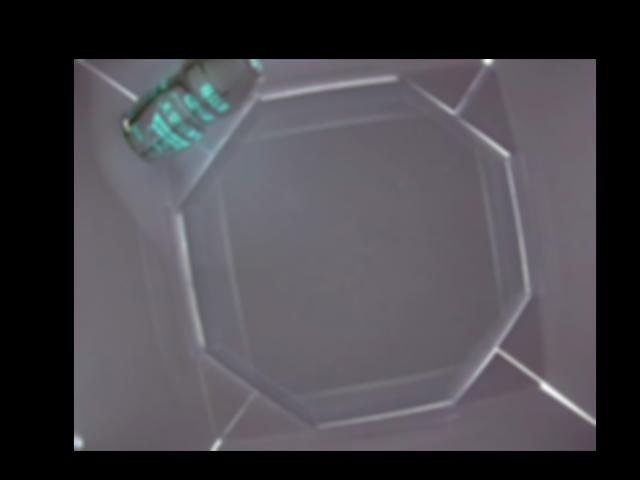Bottle: (117, 59, 267, 161)
